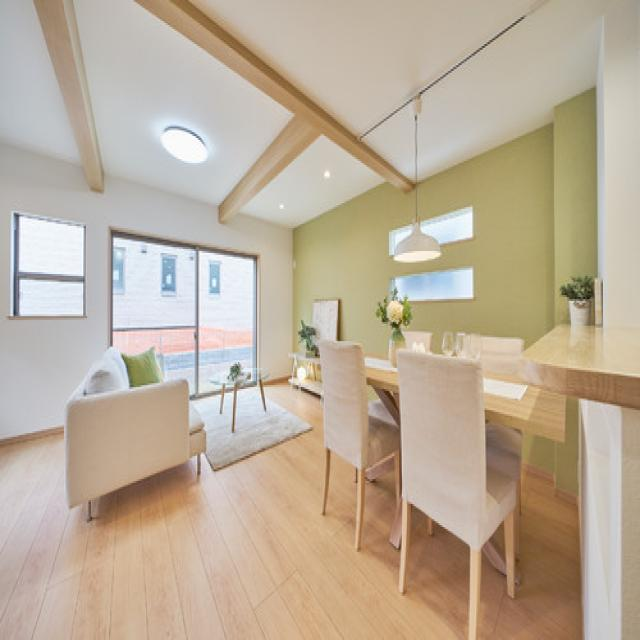natural chair: (396, 347, 520, 632), (316, 338, 397, 554)
natural desk: (211, 364, 272, 434)
natural sofa: (60, 343, 204, 508)
